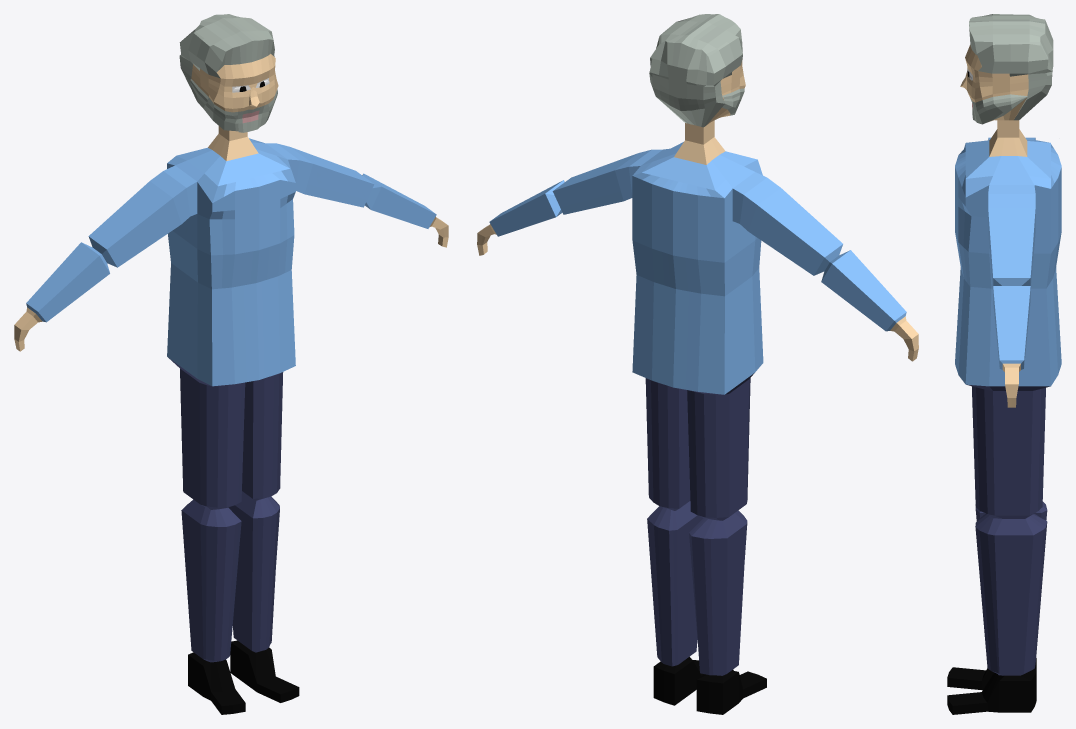
Rendered from vatan3.fbx.
The picture shows the model from 3 angles, left to right: view 1: azimuth 30°, elevation 25°; view 2: azimuth 150°, elevation 25°; view 3: azimuth 270°, elevation 25°; orthographic projection. The views are drawn at different scales.
Visible parts, largest first — view 1: tşört, kol, KOL, SAÇ, KOL.001, ayakkabı, Cube.002; view 2: tşört, kol, SAÇ, KOL, KOL.001, ayakkabı; view 3: kol, tşört, SAÇ, KOL.001, ayakkabı, Cube.002, el.001.
Part boxes in pixels (x1,y1,x2,y2): tşört: [167, 138, 295, 386]; kol: [168, 357, 283, 662]; KOL: [26, 165, 197, 322]; SAÇ: [179, 14, 278, 161]; KOL.001: [266, 143, 436, 228]; ayakkabı: [188, 640, 299, 714]; Cube.002: [190, 79, 277, 132]; tşört: [632, 142, 763, 394]; kol: [645, 373, 754, 675]; SAÇ: [649, 14, 745, 164]; KOL: [732, 172, 906, 331]; KOL.001: [489, 149, 662, 236]; ayakkabı: [653, 656, 766, 714]; kol: [966, 384, 1050, 675]; tşört: [955, 140, 1061, 386]; SAÇ: [960, 14, 1053, 156]; KOL.001: [988, 185, 1035, 369]; ayakkabı: [947, 658, 1036, 714]; Cube.002: [971, 94, 1027, 124]; el.001: [1002, 363, 1020, 407].
Bounding box in the file's own units: 141 × 207 × 31.9.
